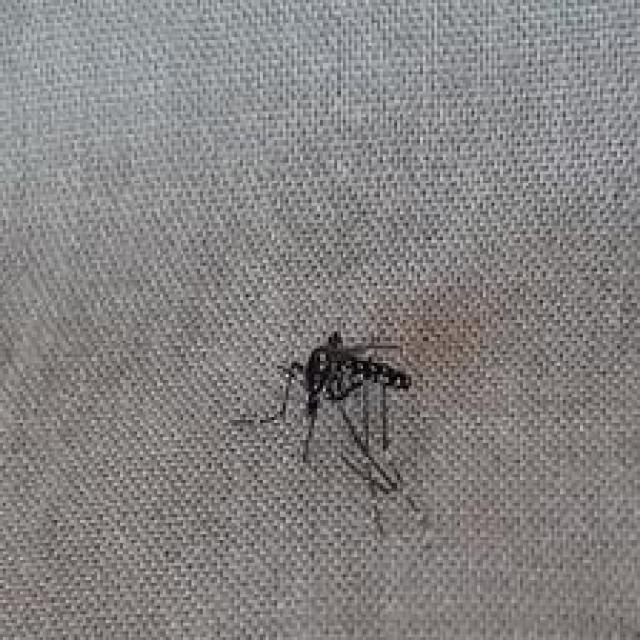Aedes albopictus: (266, 329, 417, 497)
